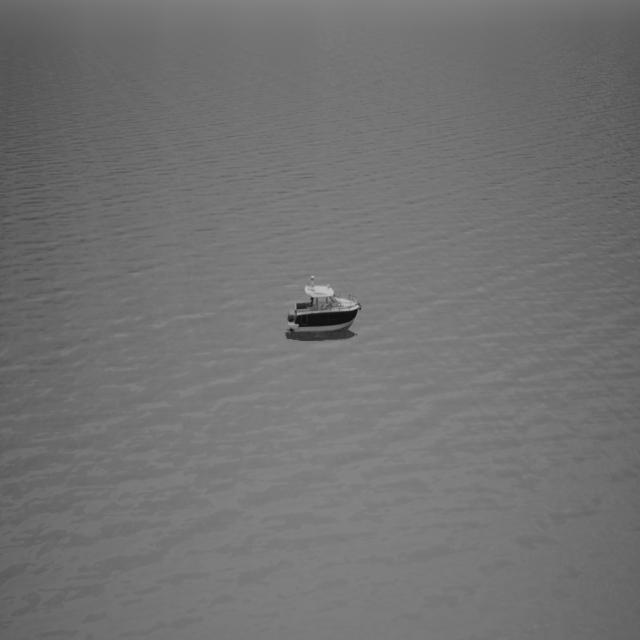ship: (285, 274, 362, 340)
